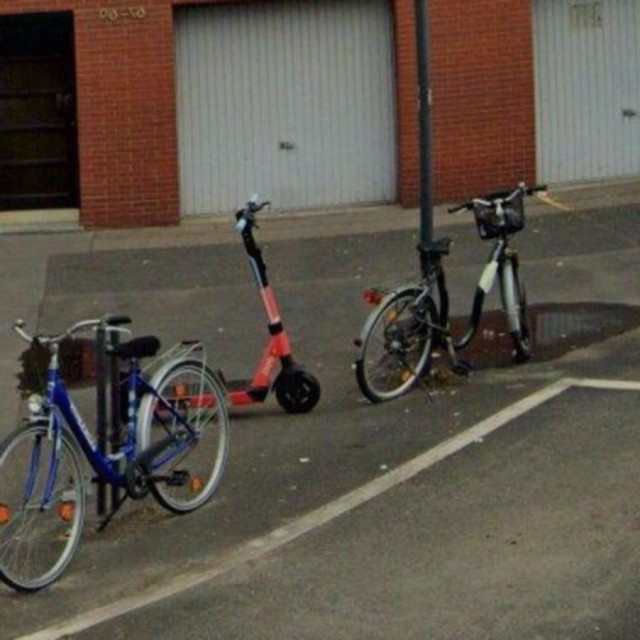bicycle: (4, 276, 228, 624), (346, 165, 566, 416)
